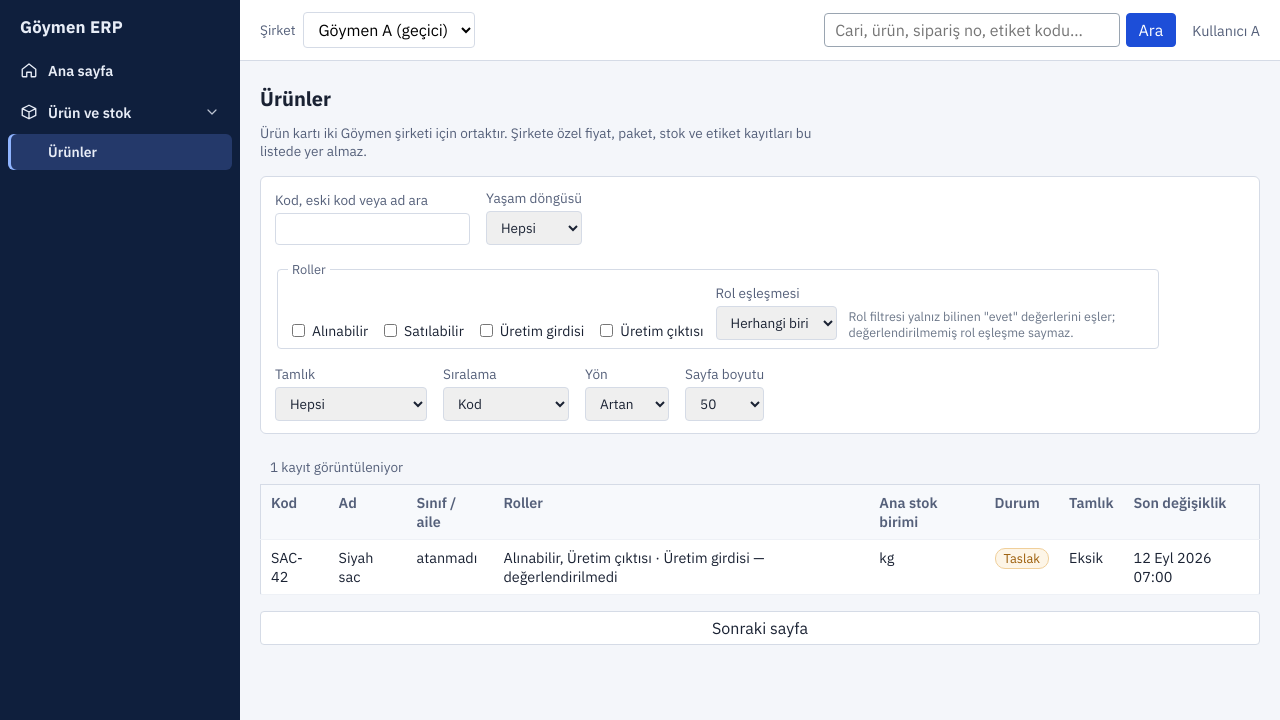
§13 states › offers a restart, not a generic conflict, on an invalid cursor
Click the button "Sonraki sayfa" at (760, 628), box [260,611,1260,645]
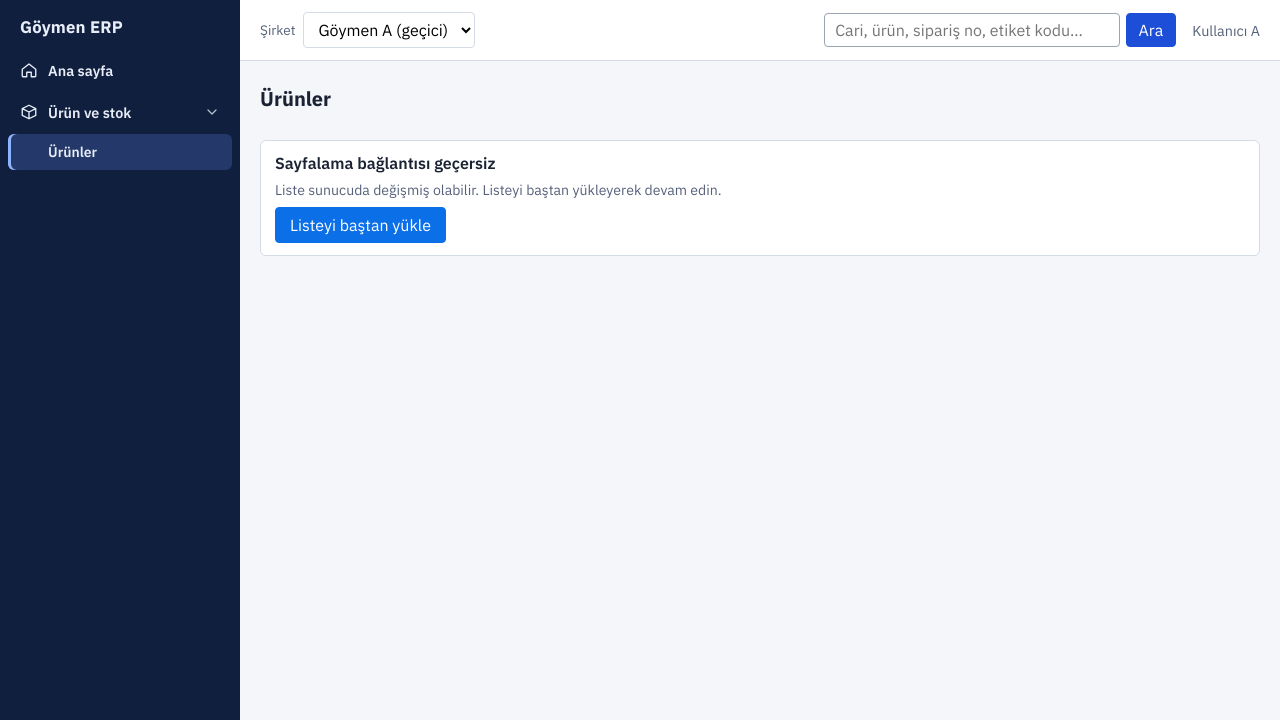
Expected: the text "Sayfalama bağlantısı geçersiz" is shown, [275,153,496,173]
Expected: the button "Listeyi baştan yükle" is shown, [275,207,446,243]
